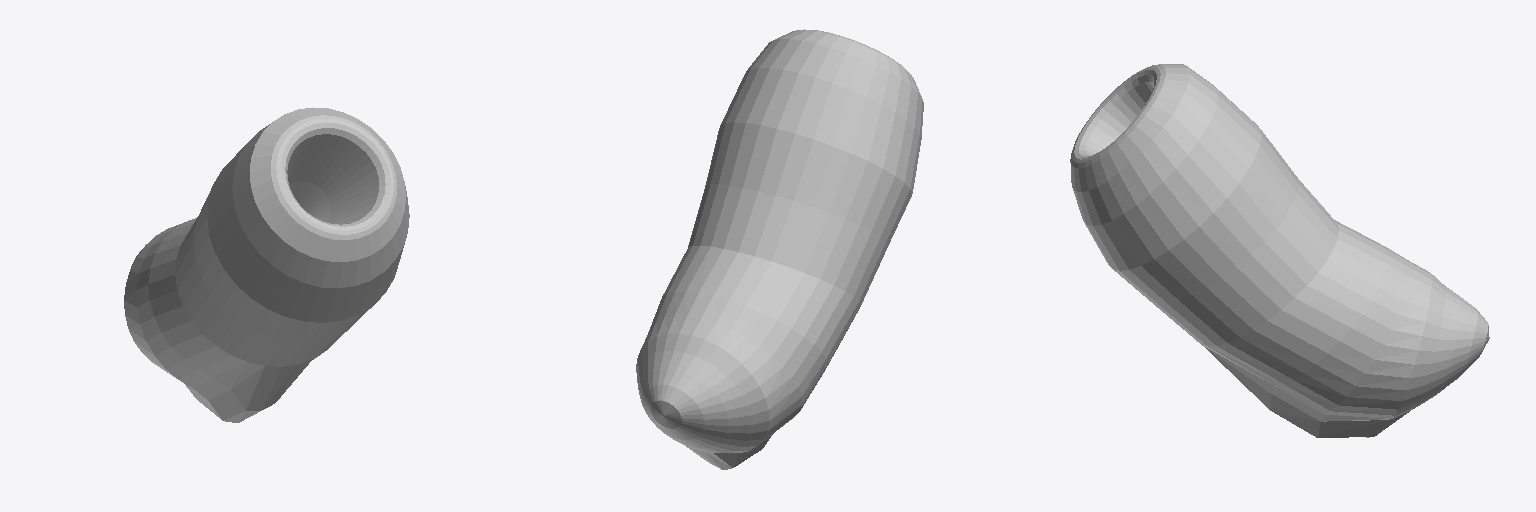
Rendered from 1Anthro shith2 in.obj.
3 views of the same model, side by side, from view 1: azimuth 30°, elevation 25°; view 2: azimuth 150°, elevation 25°; view 3: azimuth 270°, elevation 25° (orthographic).
Visible parts, largest first — view 1: Sphere_Sphere.001; view 2: Sphere_Sphere.001; view 3: Sphere_Sphere.001.
Boxes of the visible parts, <box> form: Sphere_Sphere.001: <box>124,107,409,422</box>; Sphere_Sphere.001: <box>636,29,923,469</box>; Sphere_Sphere.001: <box>1070,64,1489,437</box>.
Size of the model in its own units: 2.6 by 5.07 by 5.31.